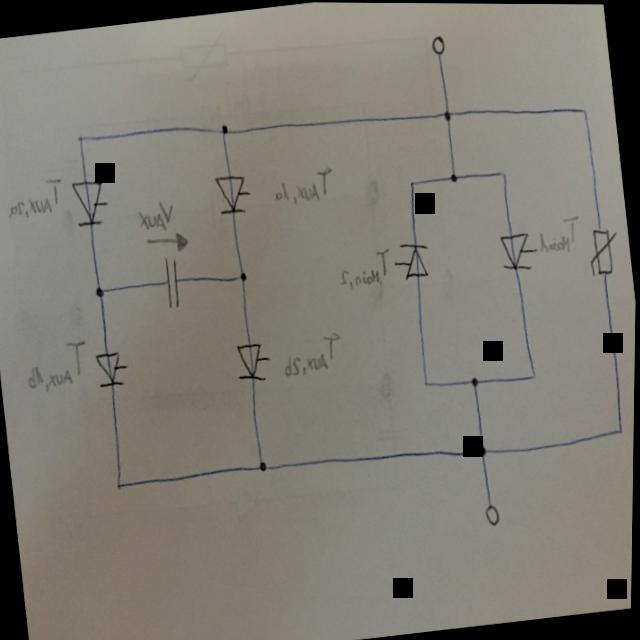capacitor: (160, 253, 184, 309)
junction: (93, 282, 106, 299), (235, 267, 249, 282), (447, 168, 460, 183), (441, 106, 453, 121), (477, 441, 489, 456), (257, 457, 269, 472), (469, 372, 480, 387), (218, 120, 229, 135), (529, 365, 539, 380), (578, 103, 589, 116), (616, 422, 625, 435), (422, 374, 431, 387), (115, 477, 124, 490), (76, 130, 85, 143), (498, 166, 507, 177), (407, 176, 416, 187)
terminal: (484, 499, 502, 525), (429, 29, 446, 56)
text: (21, 334, 94, 396), (278, 328, 347, 378), (269, 161, 338, 209), (3, 173, 67, 222), (334, 242, 396, 291), (535, 210, 585, 255), (134, 196, 178, 234)
thyristor: (68, 174, 108, 227), (497, 228, 534, 272), (213, 171, 250, 214), (398, 237, 433, 279), (234, 339, 267, 383), (94, 348, 125, 387)
